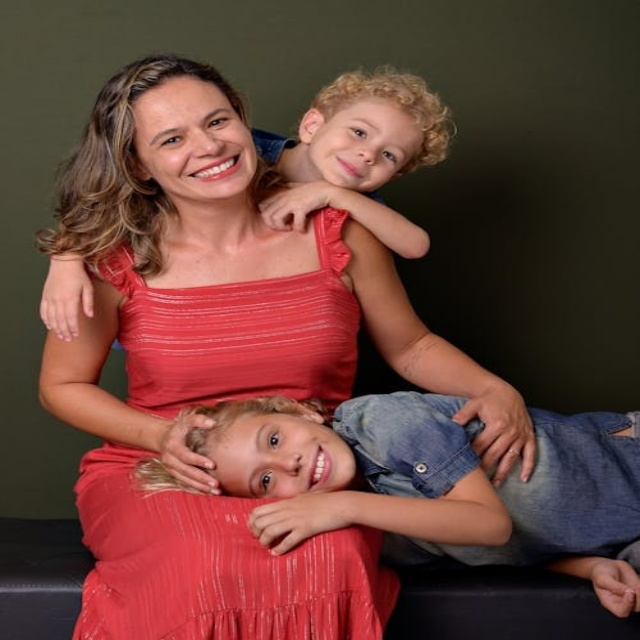Sin_gafas: (259, 470, 274, 494), (159, 135, 183, 148), (207, 117, 229, 129), (268, 431, 281, 450), (349, 127, 367, 140), (382, 150, 398, 163)
Sin_guantes: (442, 374, 549, 480), (239, 483, 361, 555), (35, 249, 102, 349), (260, 183, 332, 240), (579, 552, 634, 613)
Sin_mascara: (185, 154, 241, 183), (307, 448, 330, 490), (336, 157, 365, 178)
